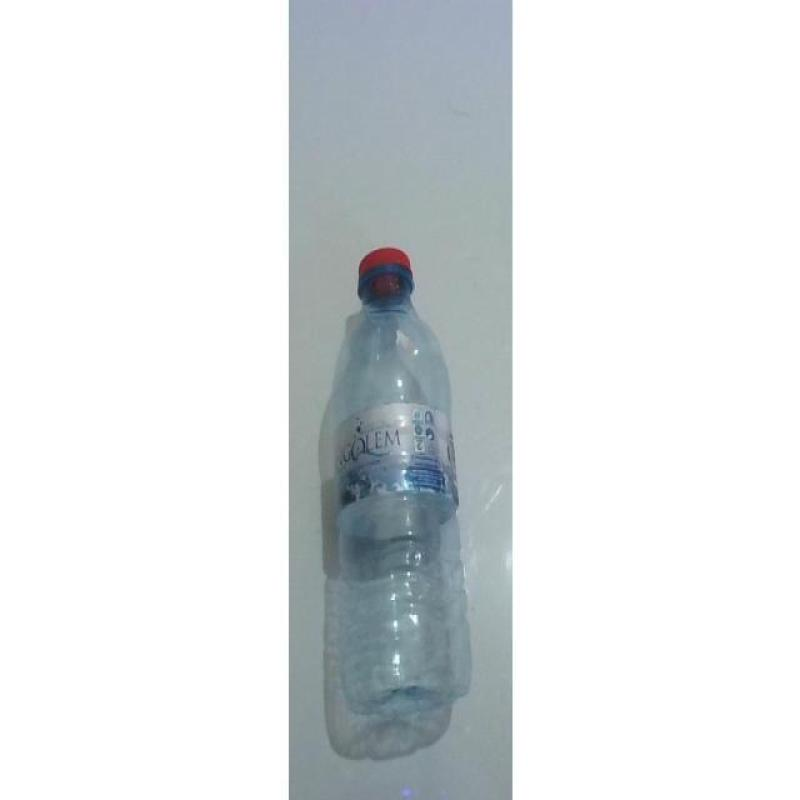botella: (330, 247, 474, 715)
